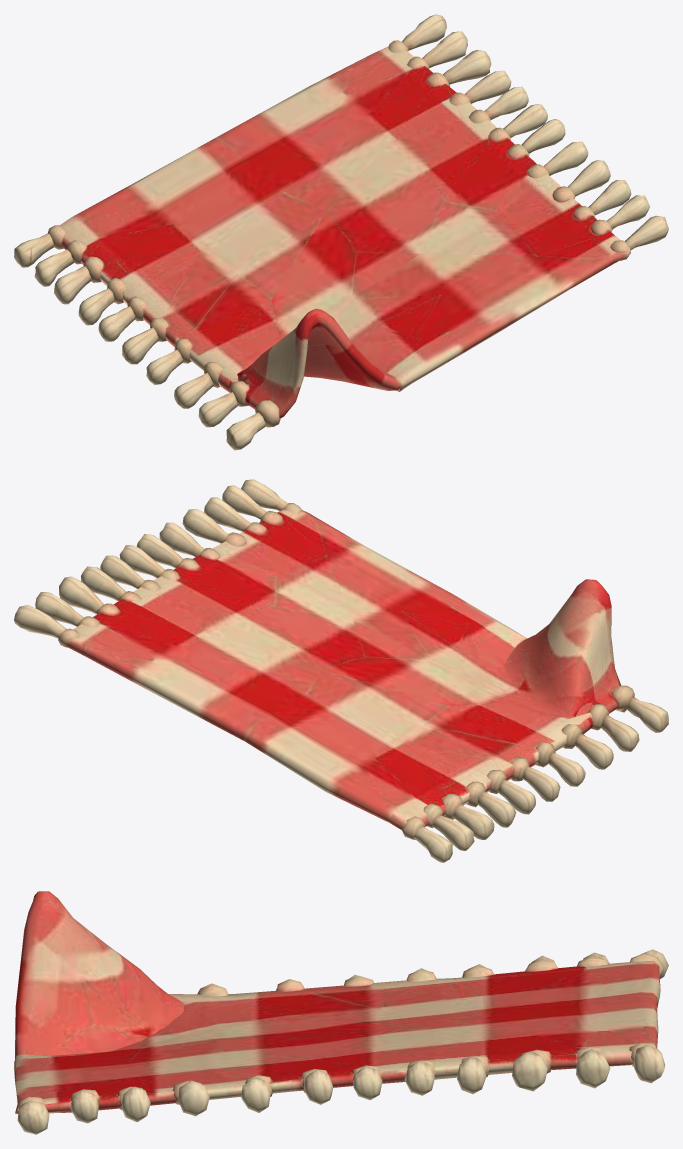
File: rug.glb
The picture shows the model from 3 angles, top to bottom: view 1: azimuth 30°, elevation 25°; view 2: azimuth 150°, elevation 25°; view 3: azimuth 270°, elevation 25°; orthographic projection. The views are drawn at different scales.
Bounding box in the file's own units: 1 × 0.4037 × 0.9631.
1 material, 1 textured.
